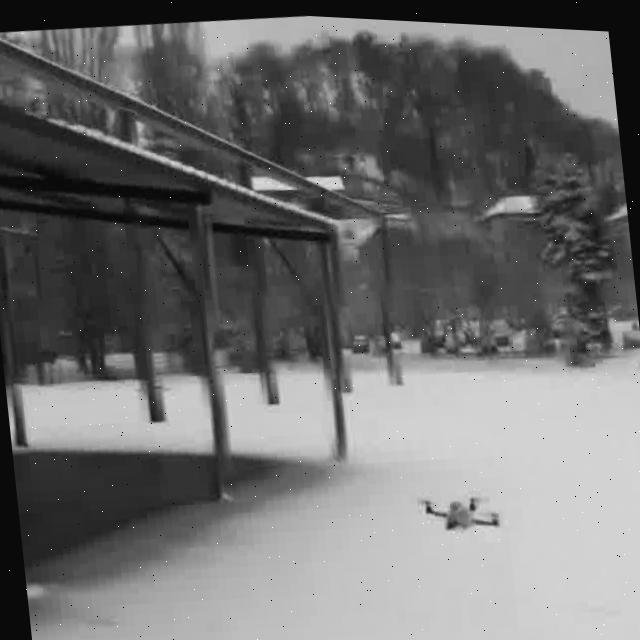drone: (22, 484, 640, 640)
